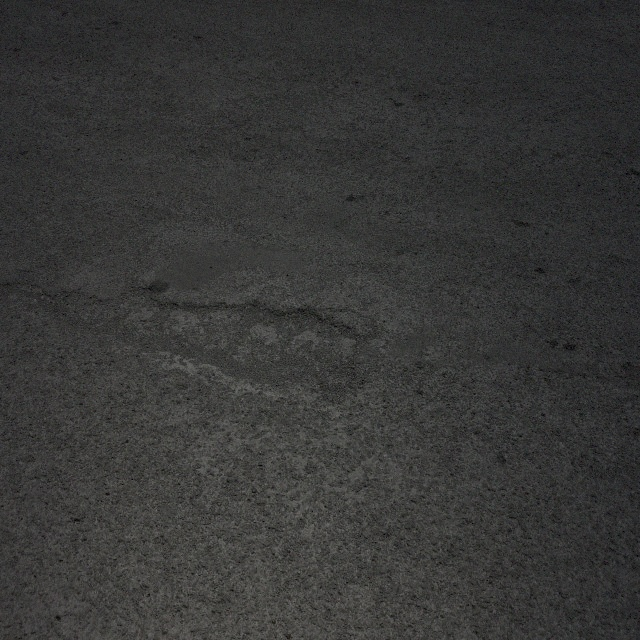pothole: (157, 290, 363, 407)
